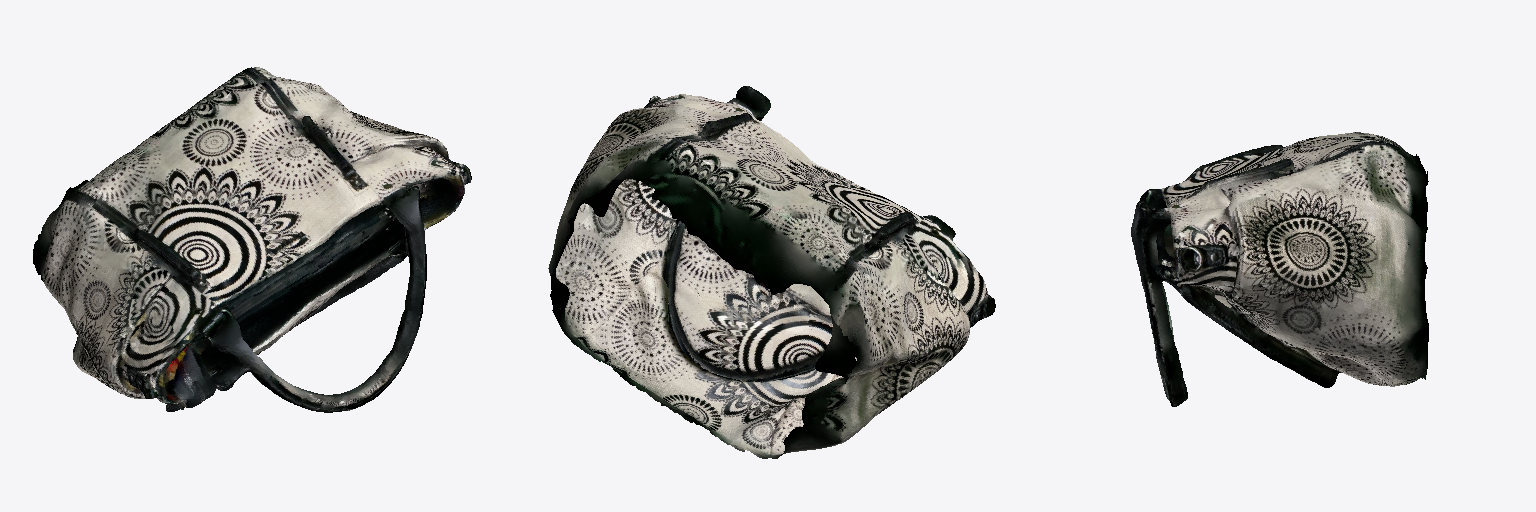
3 views of the same model, side by side, from view 1: azimuth 30°, elevation 25°; view 2: azimuth 150°, elevation 25°; view 3: azimuth 270°, elevation 25° (orthographic).
Parts seen in each view (by area): view 1: bag; view 2: bag; view 3: bag.
Part boxes in pixels (bbox=[...]): bag: bbox=[33, 67, 471, 412]; bag: bbox=[548, 86, 995, 458]; bag: bbox=[1131, 132, 1428, 406].
Bounding box in the file's own units: 0.7663 × 0.5736 × 0.5681.
Materials: 1 (1 with a texture image).